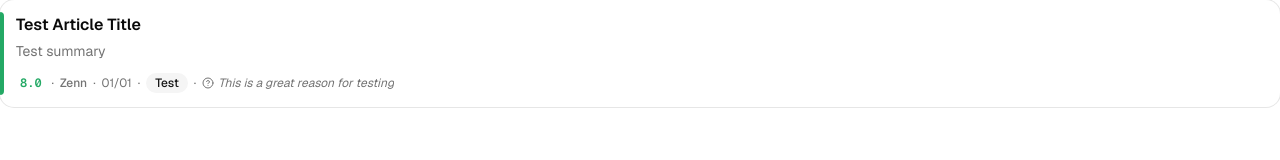
Scenario: NotForMeSwipe Component › works with favorite taps on summary
Press the mouse on the text "Test summary": (61, 51) [16,42,106,60]
Press the mouse on the text "Test summary": (61, 51) [16,42,106,60]
Press the mouse on the text "Test summary": (61, 51) [16,42,106,60]
Press the mouse on the text "Test summary": (61, 51) [16,42,106,60]
Press the mouse on the text "Test summary": (61, 51) [16,42,106,60]
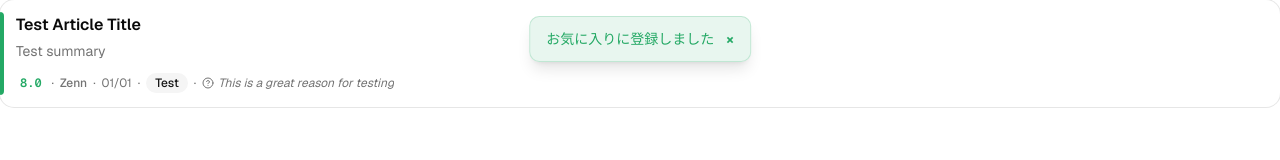
Now the text "お気に入りに登録しました" is shown, box [546,29,714,49]
